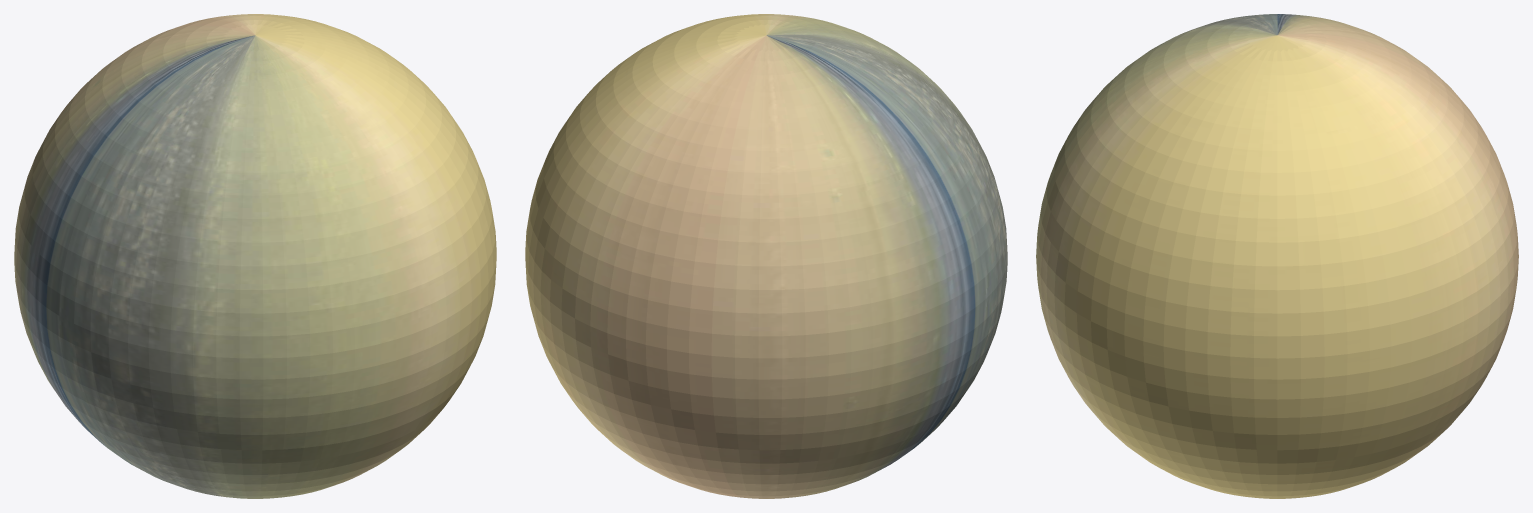
The model's file is Saturn.obj.
3 renders of one model, left to right at view 1: azimuth 30°, elevation 25°; view 2: azimuth 150°, elevation 25°; view 3: azimuth 270°, elevation 25°, orthographic.
Visible parts, largest first — view 1: Saturn; view 2: Saturn; view 3: Saturn.
Part boxes in pixels (x1,y1,x2,y2): Saturn: (14, 14, 496, 498); Saturn: (525, 14, 1007, 498); Saturn: (1036, 14, 1518, 498).
Bounding box in the file's own units: 1.97 × 2 × 1.97.
